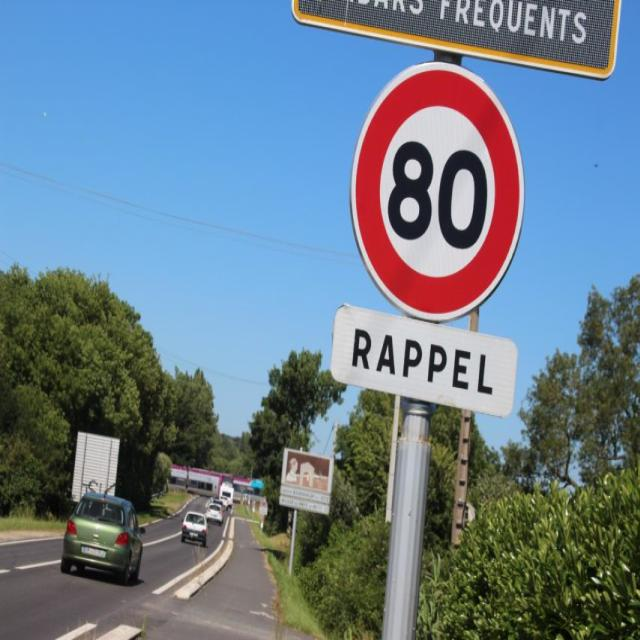speed: (352, 62, 525, 318)
